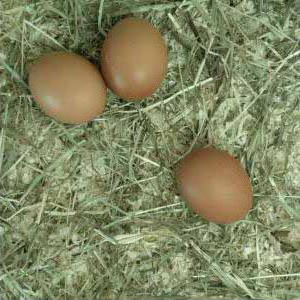egg: (179, 147, 254, 224), (29, 51, 107, 124), (101, 17, 168, 100)
